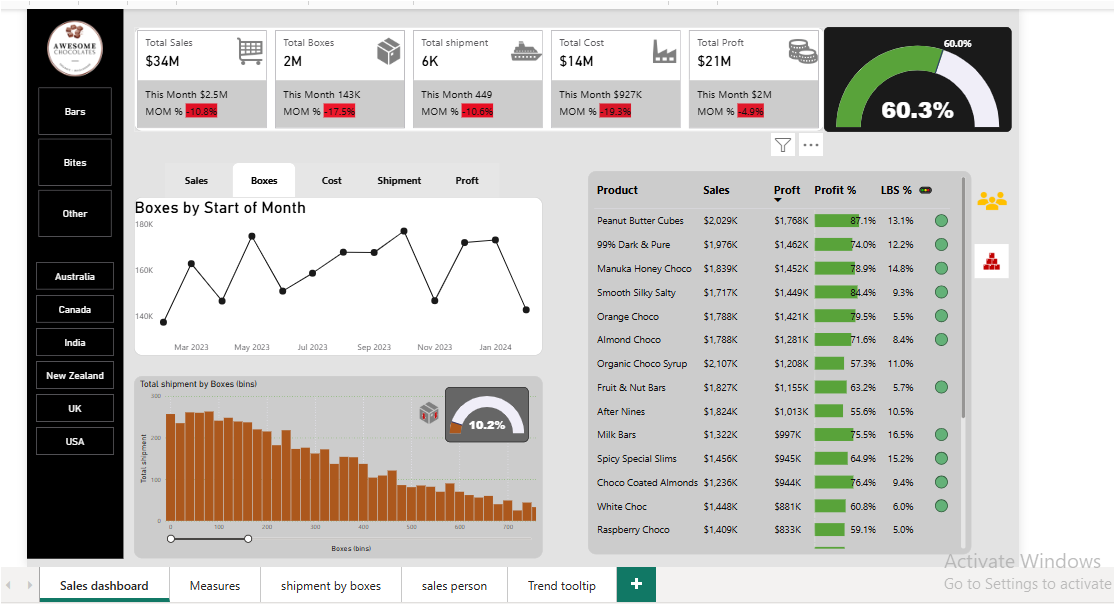

Layout of this report page (visuals, bound fields, positions):
{"tool":"powerbi","page":{"name":"Sales dashboard","canvas":[1920,1080],"ordinal":0},"visuals":[{"type":"shape","box":[0,0,186.7,1064.4],"z":0},{"type":"clusteredColumnChart","fields":{"Category":["shipments.Boxes (bins)"],"Y":["Measure.Total shipment"]},"box":[206.7,711.1,791.1,353.3],"z":1000},{"type":"cardVisual","fields":{"Data":["Measure.Total Sales","Measure.Total Boxes","Measure.Total shipment","Measure.Total Cost","Measure.Total Proft"]},"box":[206.7,35.6,1335.6,202.2],"z":2000},{"type":"gauge","fields":{"Y":["Measure.Profit %"]},"box":[1542.2,34.6,362.9,203],"z":3000},{"type":"image","box":[0,17.8,186.7,117.8],"z":4000},{"type":"lineChart","fields":{"Y":["Measure.Total Sales"],"Category":["calendar.Start of Month"]},"box":[206.7,364.4,791.1,306.7],"z":5000},{"type":"advancedSlicerVisual","fields":{"Values":["Measure Selector.Measure Selector"]},"box":[266.7,297.8,646.7,66.7],"z":6000},{"type":"gauge","fields":{"Y":["Measure.LBS %"]},"box":[808.9,731.1,162.2,106.7],"z":7000},{"type":"image","title":"People icon","box":[1830.7,321.5,73.7,100.5],"z":9000},{"type":"image","title":"Product icon","box":[1828.5,422,75.9,131.7],"z":10000},{"type":"tableEx","title":"Peoples detail","fields":{"Values":["people.Picture","people.Sales person","Measure.Total Sales","Measure.Total Proft","Measure.Profit %","Measure.LBS %","Measure.Profit Target Indicator"]},"box":[1033.3,297.8,780,766.7],"z":11000},{"type":"image","box":[746.7,731.1,62.2,100],"z":12000},{"type":"advancedSlicerVisual","fields":{"Values":["products.Category"]},"box":[17.8,146.7,151.1,300],"z":13000},{"type":"advancedSlicerVisual","fields":{"Values":["locations.Geo"]},"box":[17.8,488.9,151.1,377.8],"z":14000}]}

Visuals, with their boxes on the page's 1920x1080 design canvas (x1, y1, x2, y2). These are canvas units, not pixel positions in the 1115x605 screenshot, which may show the page scaled, cropped or inside an application window:
shape: [0, 0, 187, 1064]
clusteredColumnChart - shipments.Boxes (bins) x Measure.Total shipment: [207, 711, 998, 1064]
cardVisual - Measure.Total Sales x Measure.Total Boxes: [207, 36, 1542, 238]
gauge - Measure.Profit %: [1542, 35, 1905, 238]
image: [0, 18, 187, 136]
lineChart - Measure.Total Sales x calendar.Start of Month: [207, 364, 998, 671]
advancedSlicerVisual - Measure Selector.Measure Selector: [267, 298, 913, 364]
gauge - Measure.LBS %: [809, 731, 971, 838]
"People icon" image: [1831, 322, 1904, 422]
"Product icon" image: [1828, 422, 1904, 554]
"Peoples detail" tableEx: [1033, 298, 1813, 1064]
image: [747, 731, 809, 831]
advancedSlicerVisual - products.Category: [18, 147, 169, 447]
advancedSlicerVisual - locations.Geo: [18, 489, 169, 867]
